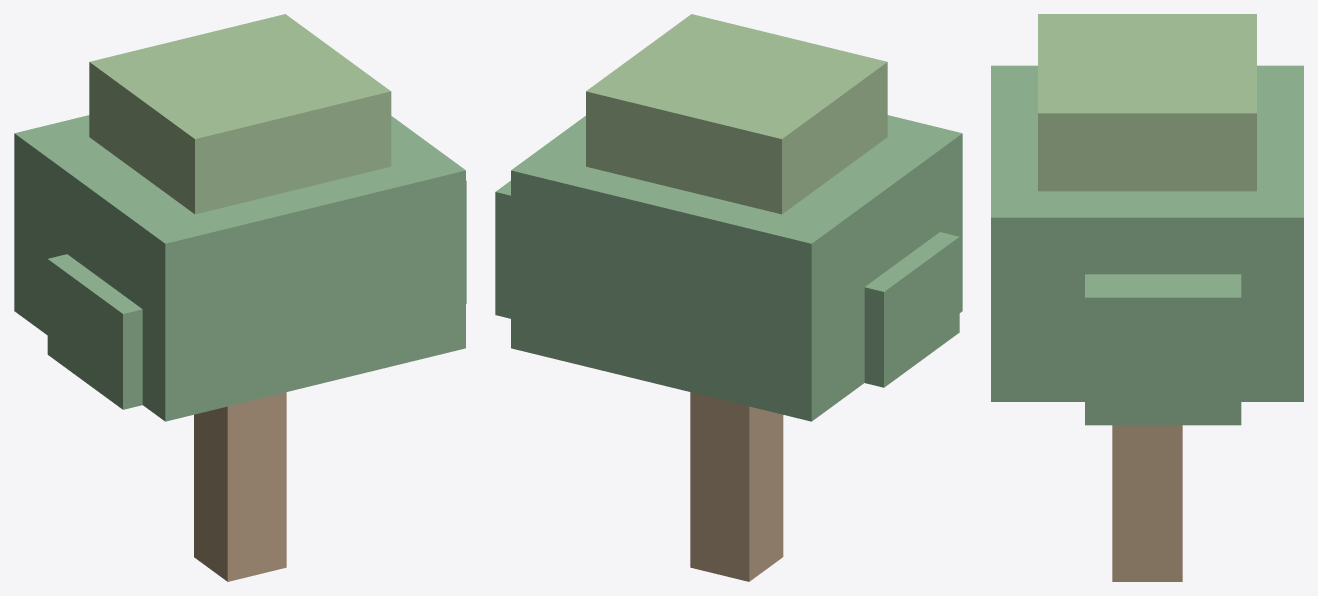
File: tree.glb
3 views of the same model, side by side, from view 1: azimuth 30°, elevation 25°; view 2: azimuth 150°, elevation 25°; view 3: azimuth 270°, elevation 25° (orthographic). The views are drawn at different scales.
Parts seen in each view (by area): view 1: canopy (×3), tree_trunk; view 2: canopy (×4), tree_trunk; view 3: canopy (×3), tree_trunk.
Boxes of the visible parts, x1=… form: canopy (×3): x1=14, y1=14, x2=465, y2=421; tree_trunk: x1=194, y1=392, x2=286, y2=581; canopy (×4): x1=495, y1=14, x2=962, y2=421; tree_trunk: x1=690, y1=392, x2=783, y2=581; canopy (×3): x1=991, y1=14, x2=1303, y2=425; tree_trunk: x1=1112, y1=425, x2=1182, y2=581.
Size of the model in its own units: 2.8 by 3.55 by 2.
